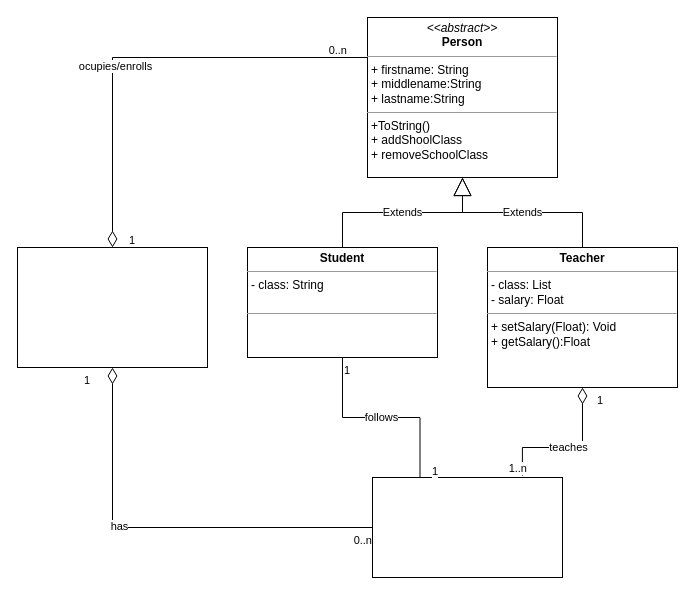
The diagram is 695 pixels wide and 595 high, and some of its shapes have lost their labels. Here are the shapes that lost their labels. From the top down, the centre of each, then its label:
point 112,307: School + class + Adress:String + EAN:String + addClass + removeClass
point 467,527: Class + class: String
